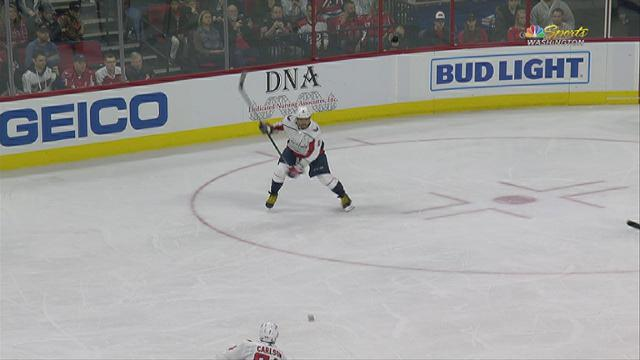geico: (2, 90, 173, 148)
